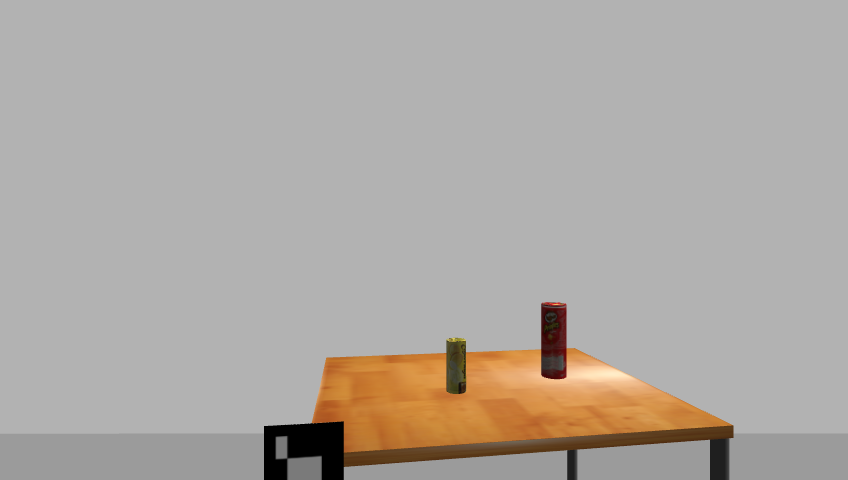aruco marker: (258, 421, 349, 480)
biscuits pack: (445, 337, 468, 395)
dinner table: (303, 345, 742, 480)
pringles can: (538, 301, 569, 381)
